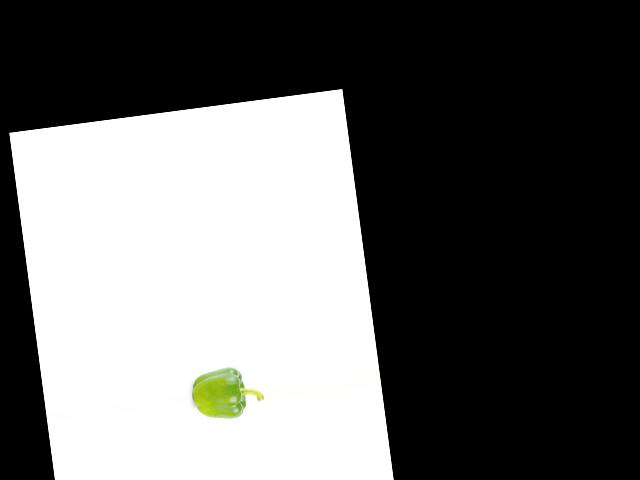bell_pepper: (188, 355, 264, 424)
